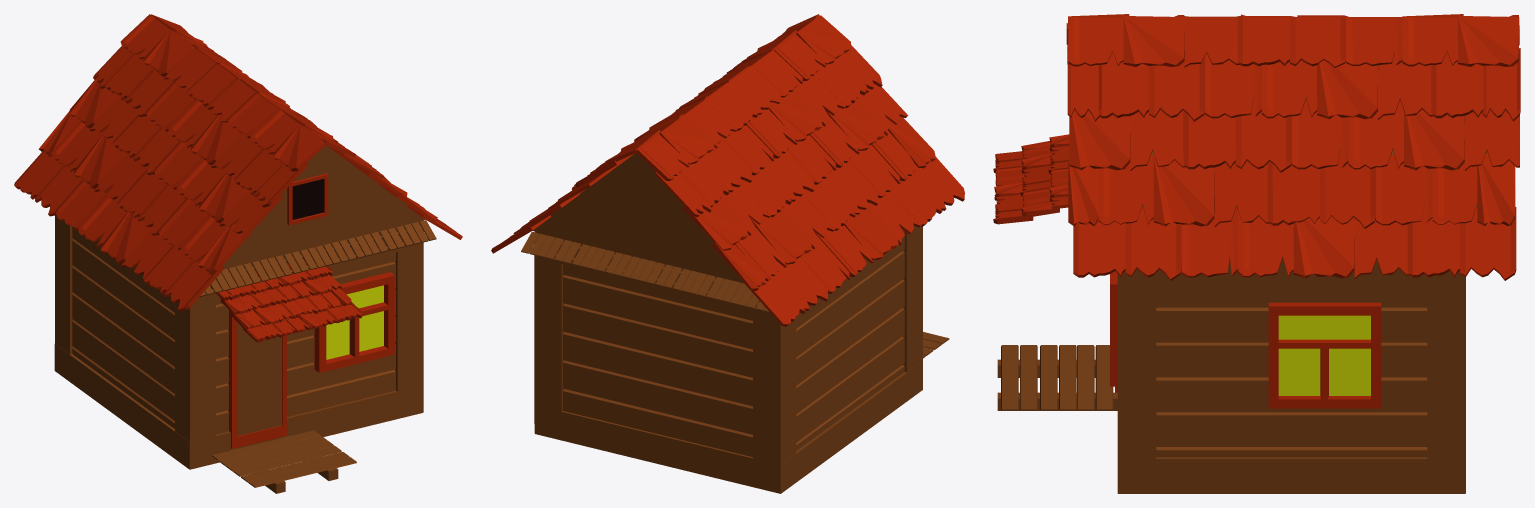
Rendered from izba.fbx.
3 renders of one model, left to right at view 1: azimuth 30°, elevation 25°; view 2: azimuth 150°, elevation 25°; view 3: azimuth 270°, elevation 25°, orthographic. The views are drawn at different scales.
Visible parts, largest first — view 1: Cube.007, Grid.008, Grid.007, Grid.005, Grid.006; view 2: Cube.007, Grid.008; view 3: Grid.008, Cube.007, Grid.007, Grid.005.
Boxes of the visible parts, bbox=[...] form: Cube.007: bbox=[54, 145, 436, 493]; Grid.008: bbox=[14, 14, 462, 342]; Grid.007: bbox=[228, 173, 394, 448]; Grid.005: bbox=[326, 285, 383, 359]; Grid.006: bbox=[292, 179, 323, 219]; Cube.007: bbox=[521, 153, 949, 493]; Grid.008: bbox=[491, 14, 964, 326]; Grid.008: bbox=[993, 14, 1520, 280]; Cube.007: bbox=[997, 98, 1487, 493]; Grid.007: bbox=[1110, 271, 1381, 408]; Grid.005: bbox=[1278, 315, 1370, 395].
Bounding box in the file's own units: 2193 × 2306 × 2720.
